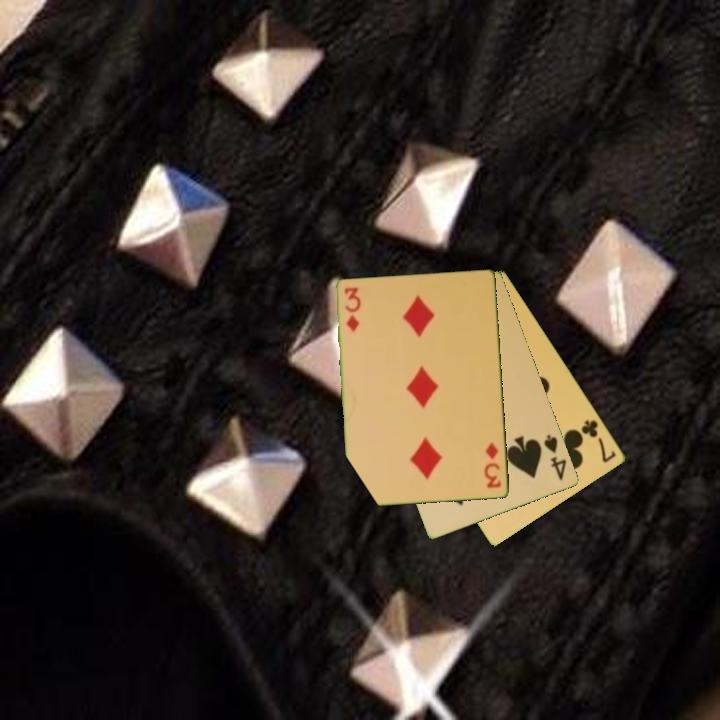3d: (482, 439, 504, 491), (342, 284, 362, 335)
4s: (541, 431, 570, 483)
7c: (578, 416, 619, 466)
